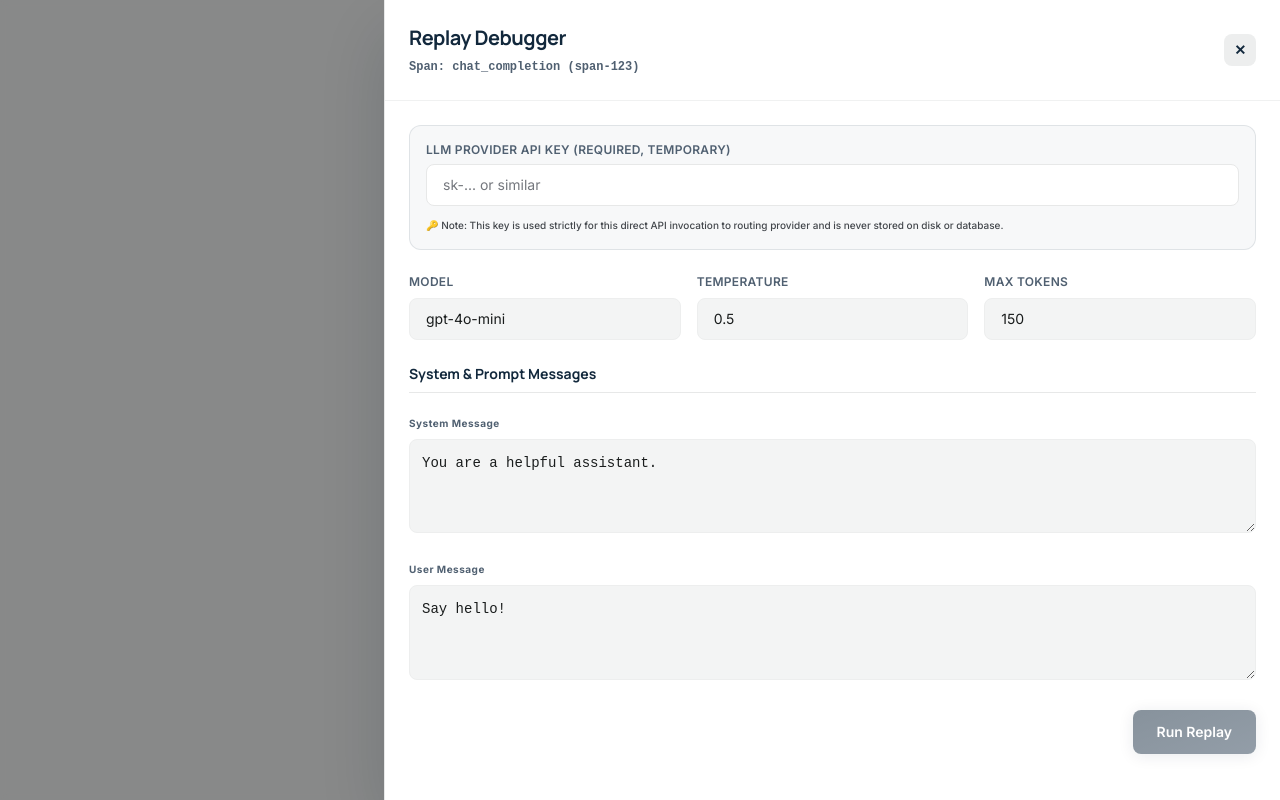
Test: ReplayPanel Component › disables 'Run Replay' button and shows loading state while a replay is in progress
Note: API key input is required to enable or submit
Type "test-key-123" into the password field with test id "provider-key-input" at (832, 185), box left=426, top=164, right=1239, bottom=206
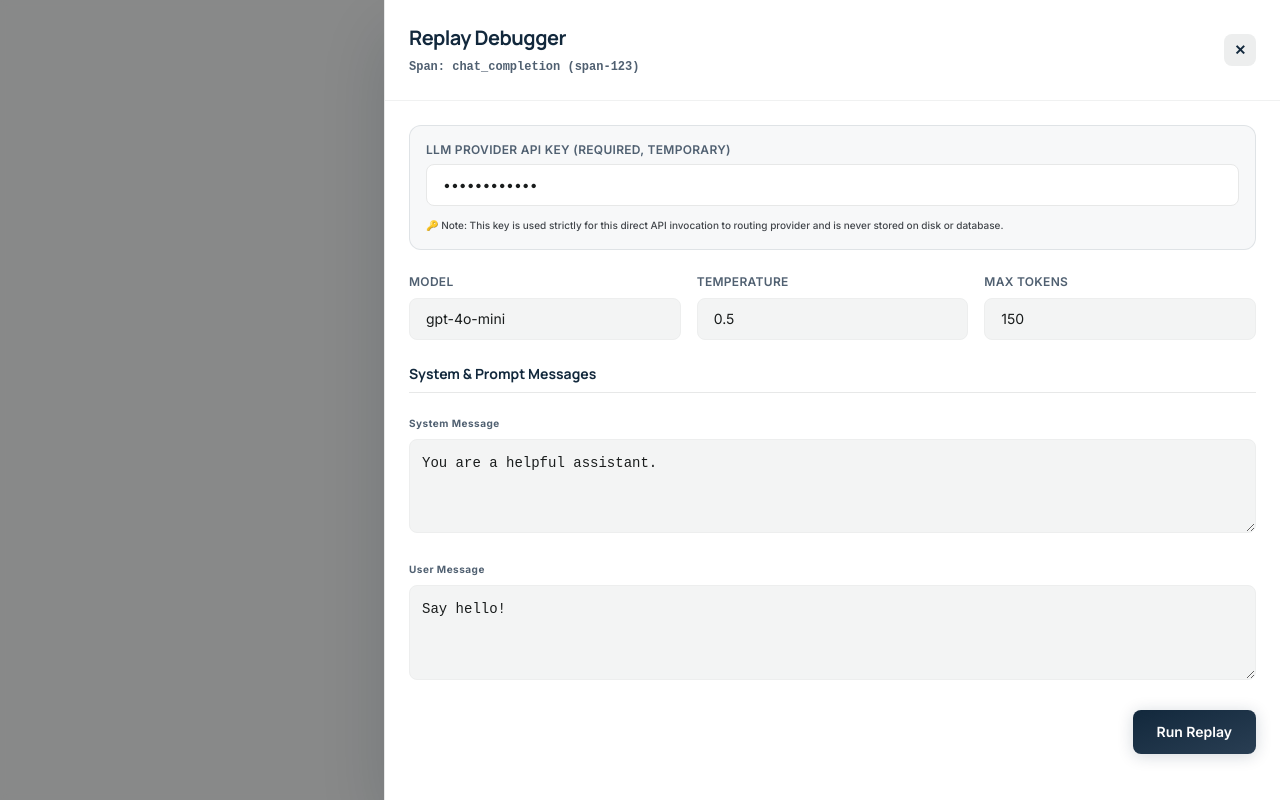
Click the button with test id "replay-submit-btn" at (1194, 732), box left=1132, top=710, right=1256, bottom=754
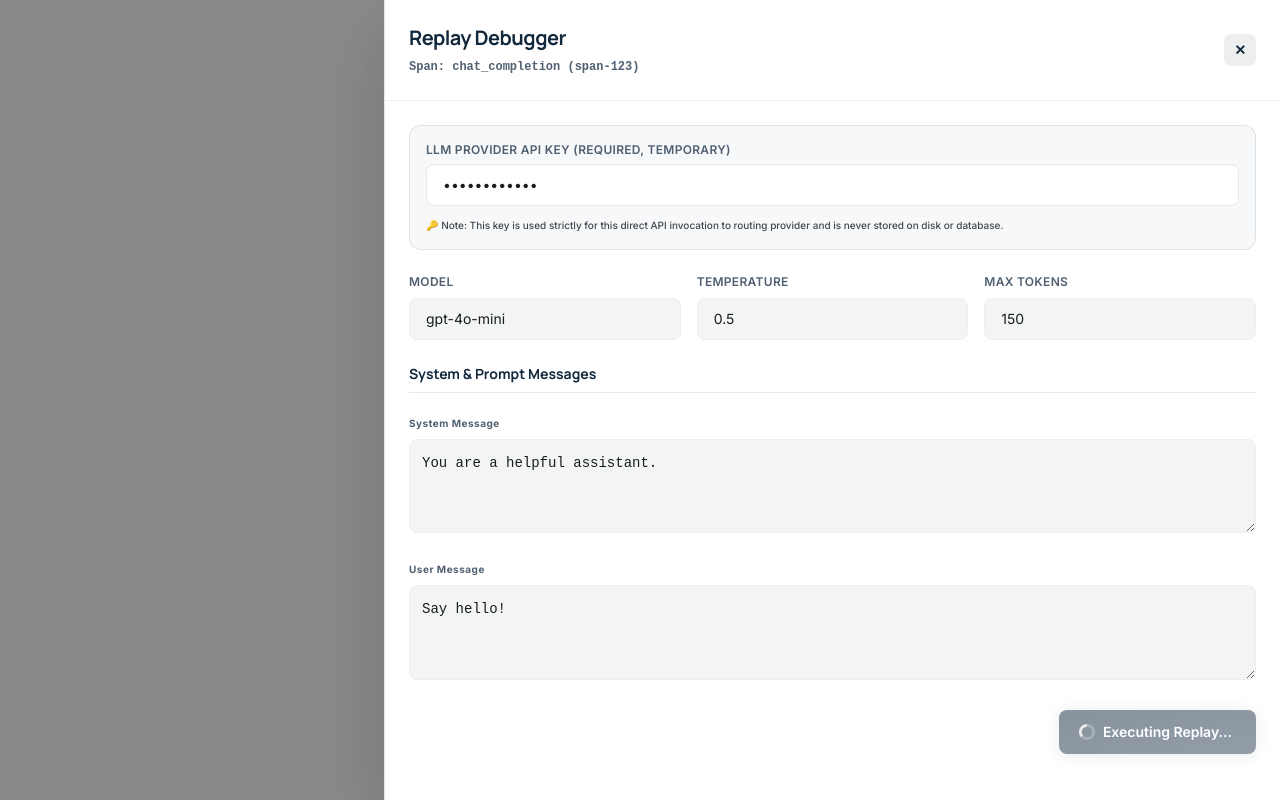
Check: the button "Executing Replay..." is disabled, box left=1059, top=710, right=1256, bottom=754
